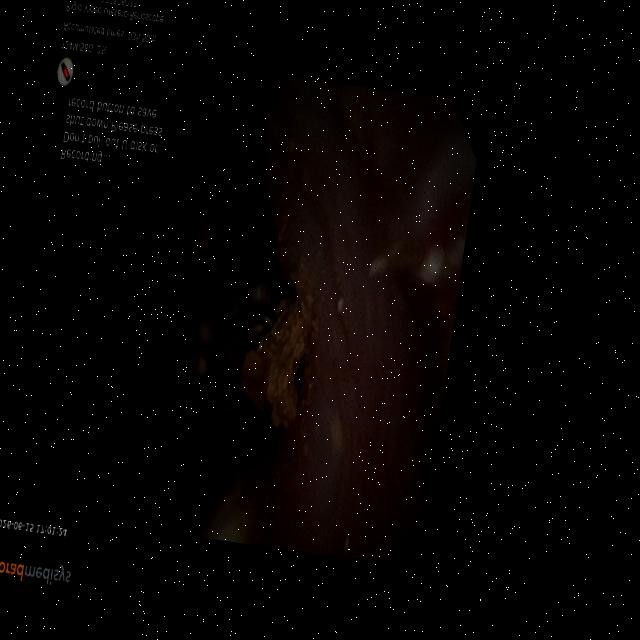stone-new: (240, 299, 306, 428)
